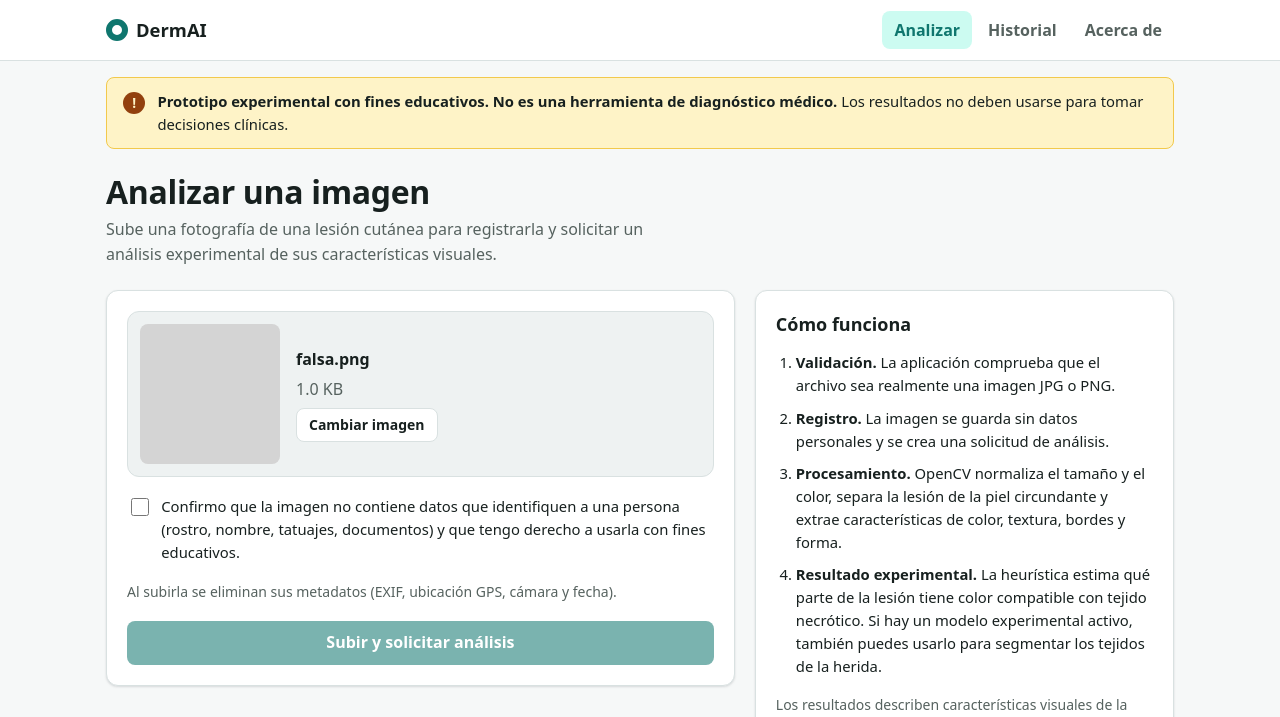
Test case: UploadPage › muestra el rechazo del backend al subir
Earlier steps of the test are not shown.
Click the checkbox labelled "Confirmo que la imagen" at point(140, 507), box [131,498,149,516]
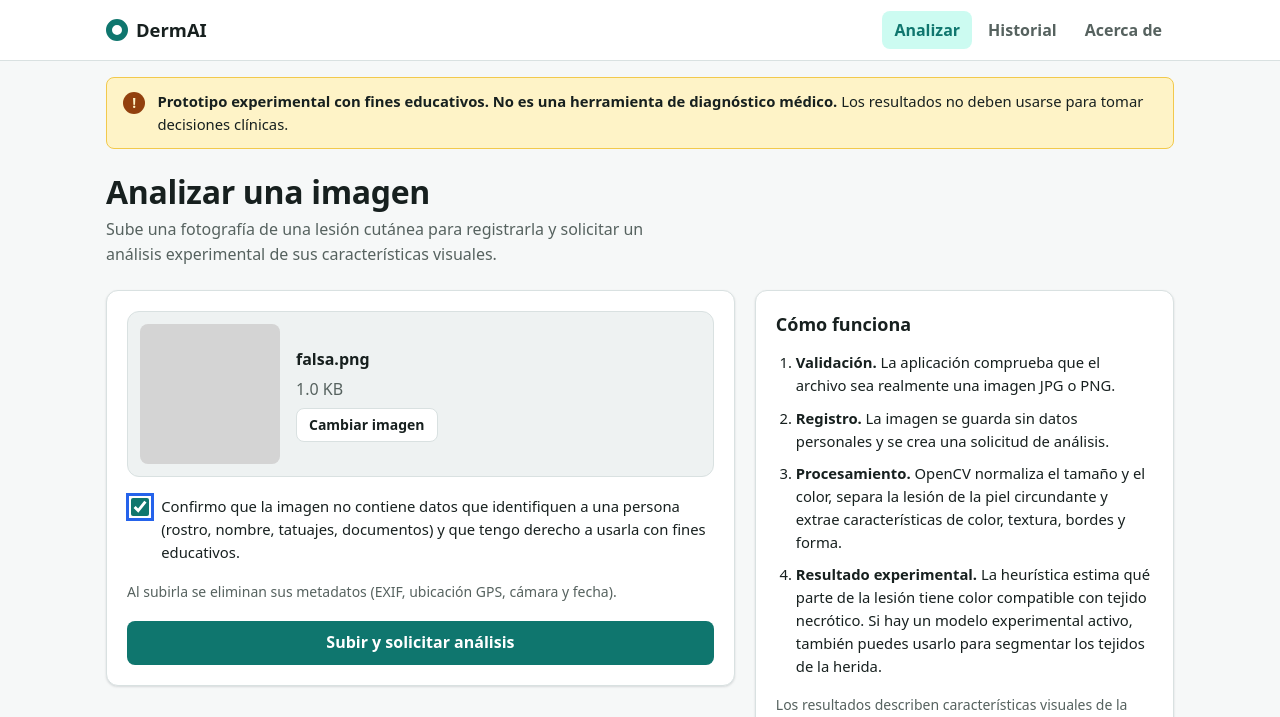
Click the button "Subir y solicitar análisis" at point(420, 643), box [127,621,714,665]
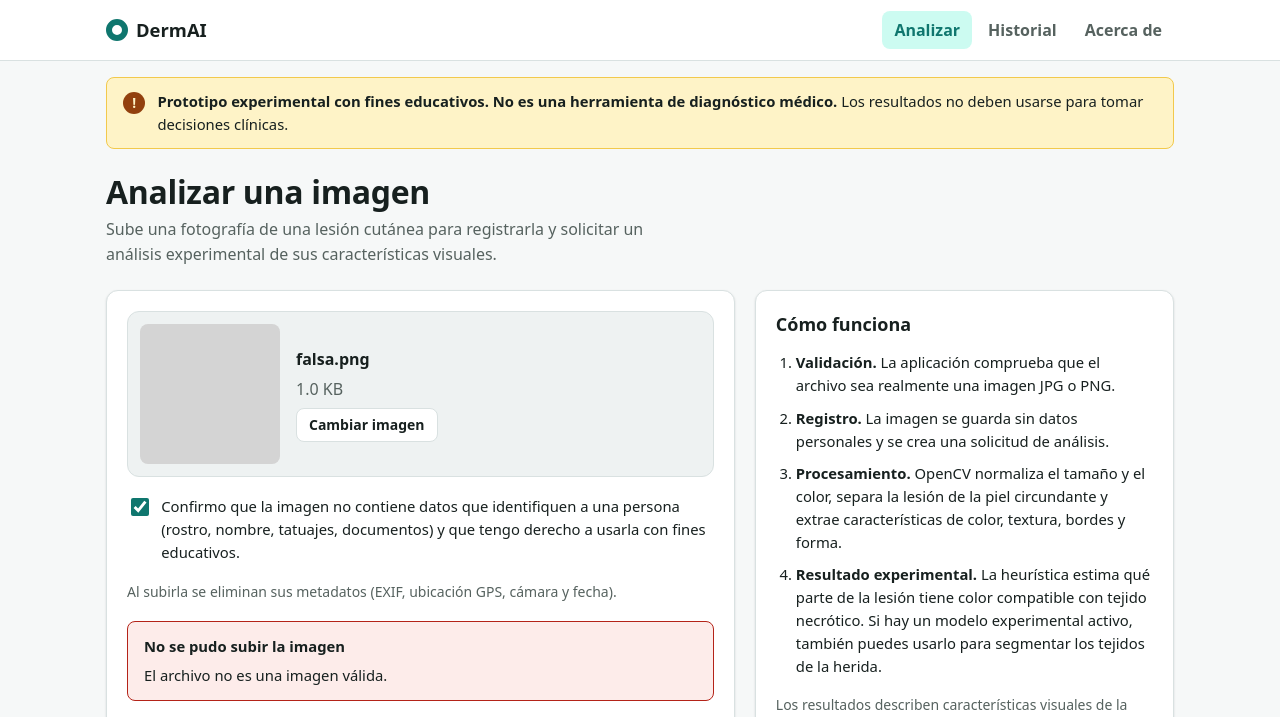
Now the message shows "No se pudo subir la imagen", box [144,636,345,656]
Now the message shows "El archivo no es una imagen válida.", box [144,665,387,685]
